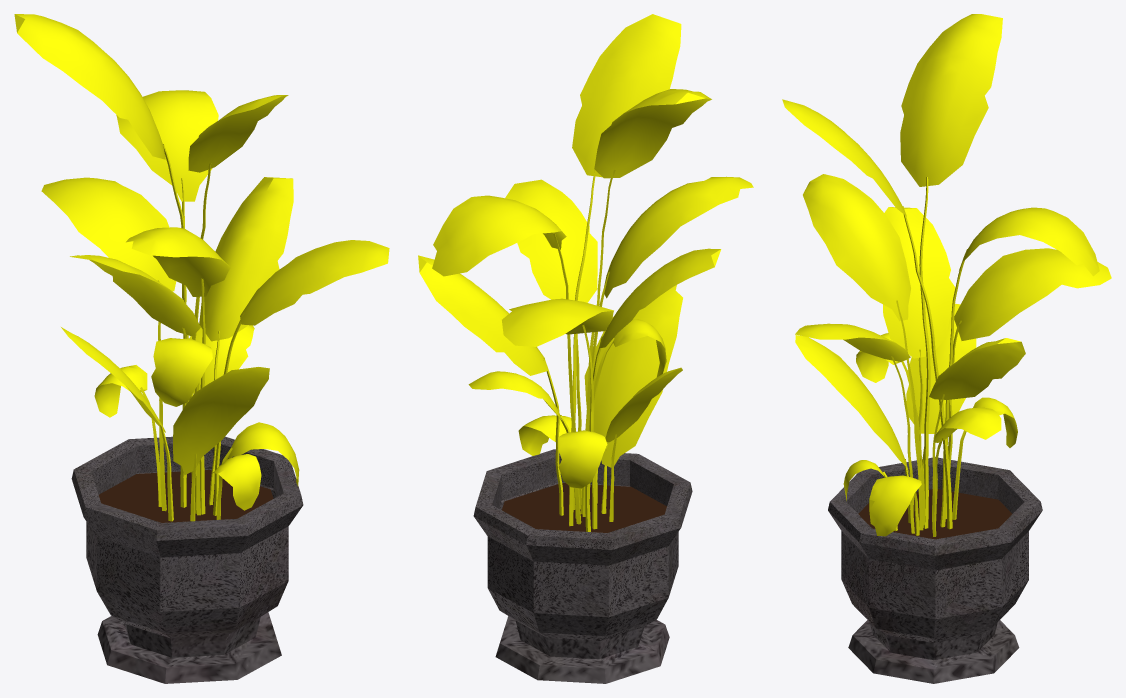
File: plant.fbx
The picture shows the model from 3 angles, left to right: view 1: azimuth 30°, elevation 25°; view 2: azimuth 150°, elevation 25°; view 3: azimuth 270°, elevation 25°; orthographic projection. The views are drawn at different scales.
Visible parts, largest first — view 1: plant.001, plant.003; view 2: plant.001, plant.003; view 3: plant.001, plant.003.
Boxes of the visible parts, box(x1,y1,x2,y2) form: plant.001: box(14, 14, 389, 522); plant.003: box(71, 436, 303, 683); plant.001: box(418, 14, 753, 532); plant.003: box(473, 449, 692, 683); plant.001: box(782, 14, 1111, 539); plant.003: box(828, 457, 1042, 683).
Size of the model in its own units: 68.98 by 145 by 75.7.
